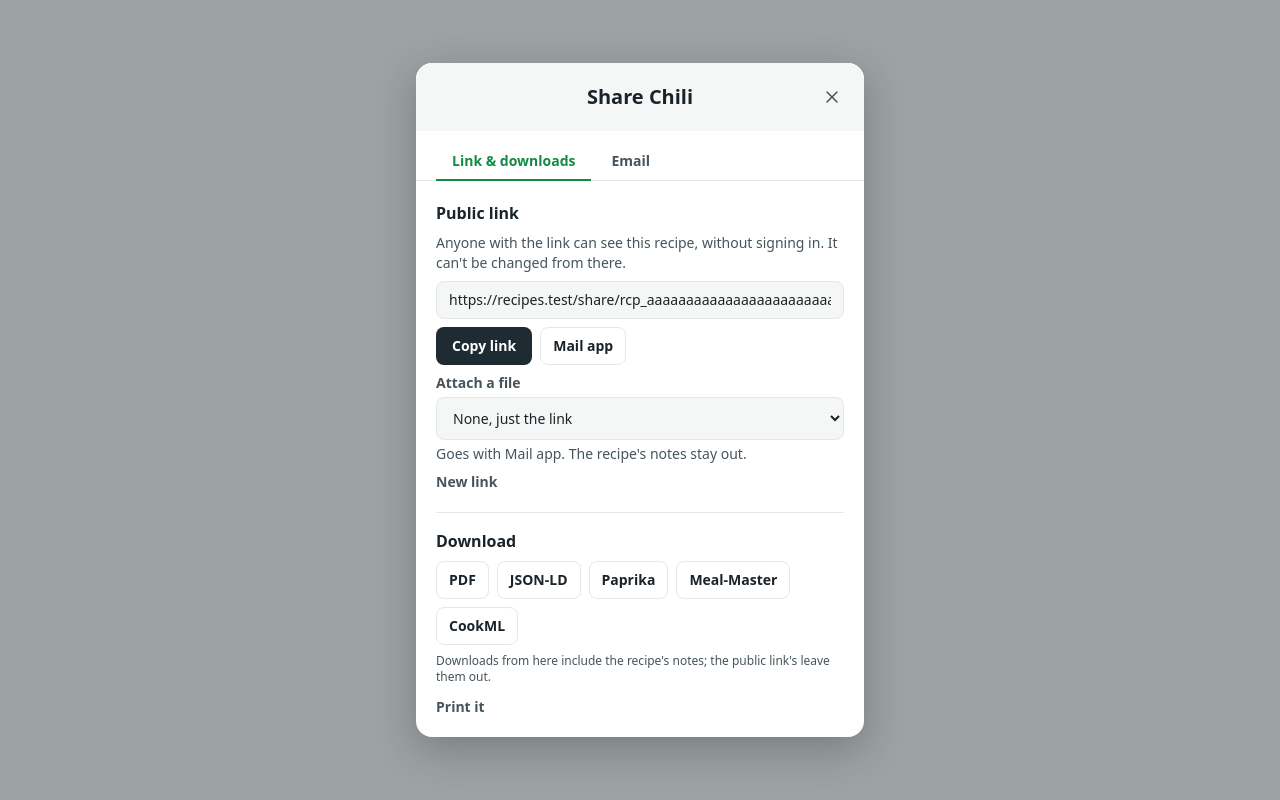
Test: the recipe's public link (Share) › New link asks first, then replaces it (the old one stops working)
Expected: the field showing "https://recipes.test/share/rcp_aaaaaaaaaaaaaaaaaaaaaaaaaaaaaaaa" is shown, [436,281,844,319]
Click the button "New link" at x=467, y=482, box [436,472,497,492]
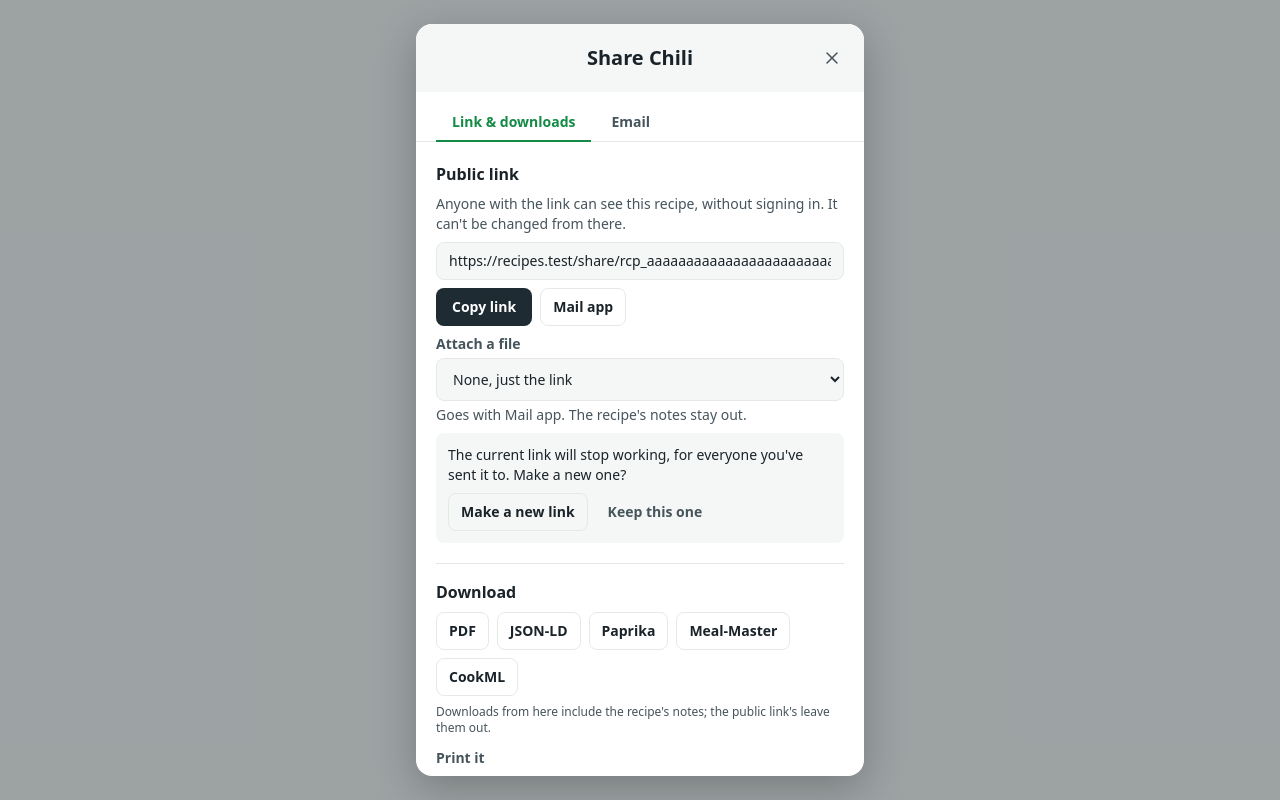
Now the element "Public link" shows "The current link will stop working", box [448,445,803,484]
Click the button "Make a new link" at x=518, y=512, box [448,493,588,531]
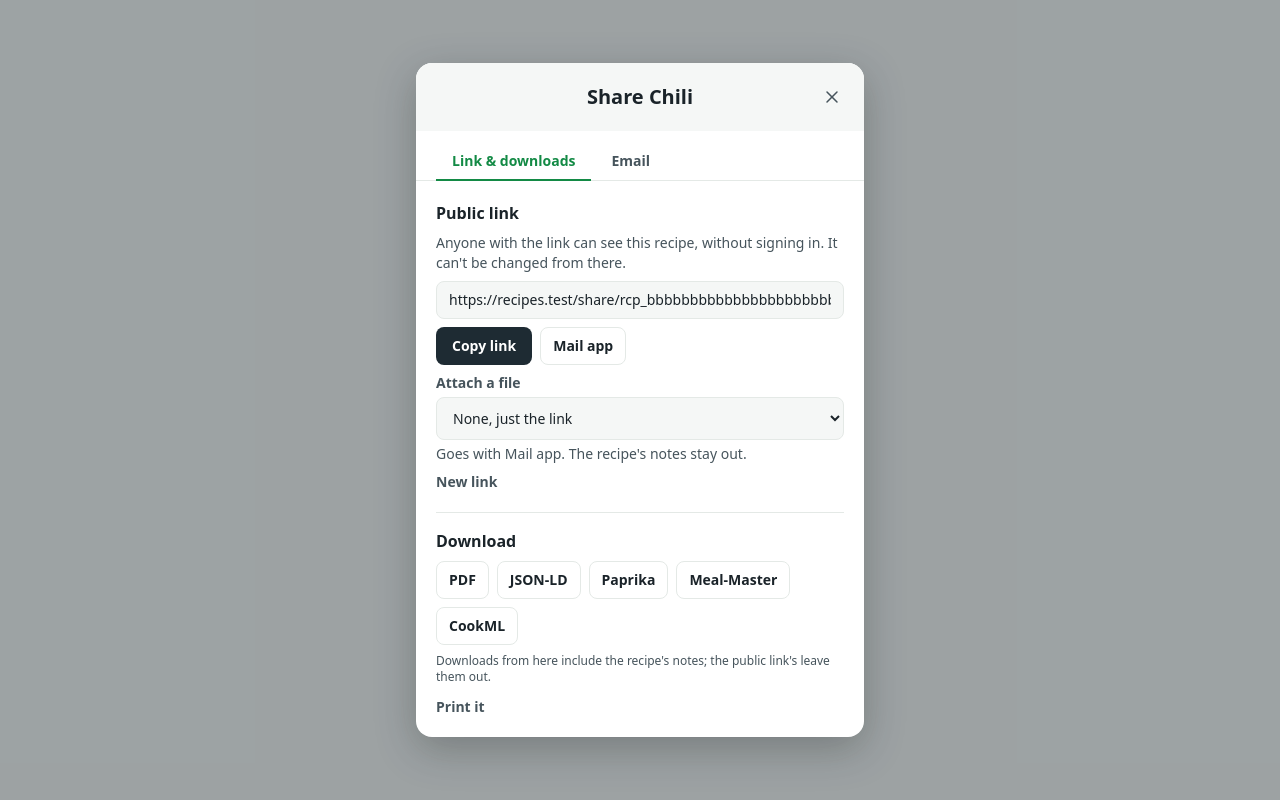
Now the field named "Public link" holds "https://recipes.test/share/rcp_bbbbbbbbbbbbbbbbbbbbbbbbbbbbbbbb", box [436,281,844,319]
